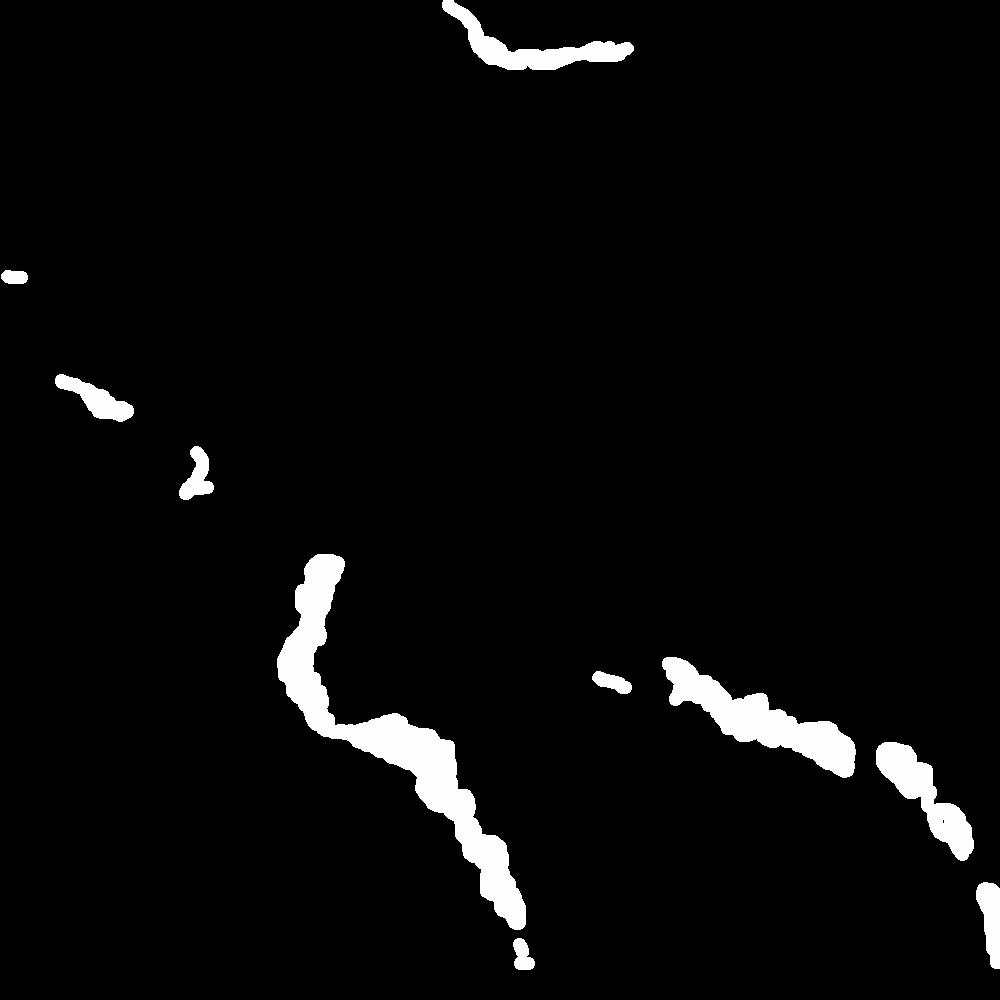illegal: (654, 633, 1000, 964), (273, 547, 537, 975), (429, 1, 609, 79), (46, 362, 173, 449), (588, 668, 636, 697), (1, 262, 25, 292)
